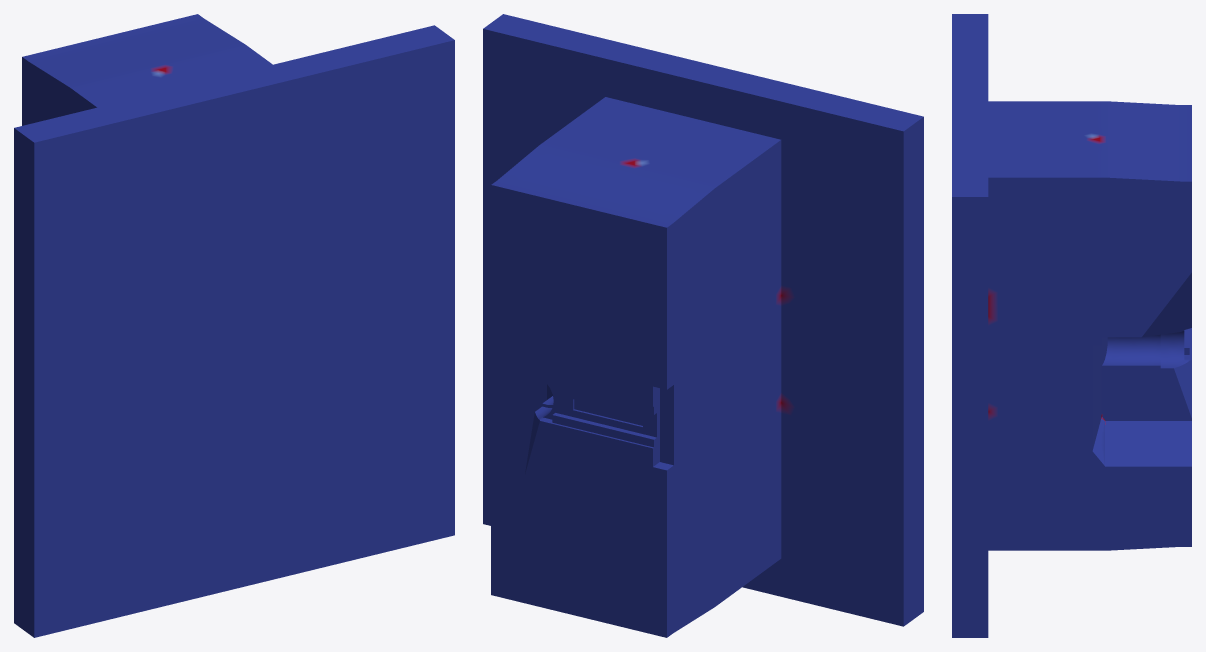
The model's file is H13-410-S11_Static.glb.
The picture shows the model from 3 angles, left to right: view 1: azimuth 30°, elevation 25°; view 2: azimuth 150°, elevation 25°; view 3: azimuth 270°, elevation 25°; orthographic projection. The views are drawn at different scales.
Parts seen in each view (by area): view 1: H13-410-S11; view 2: H13-410-S11; view 3: H13-410-S11.
Part boxes in pixels (box(x1,y1,x2,y2)): H13-410-S11: box(14, 14, 454, 637); H13-410-S11: box(483, 14, 923, 637); H13-410-S11: box(952, 14, 1191, 637).
Size of the model in its own units: 6.1 by 6.86 by 3.38.
